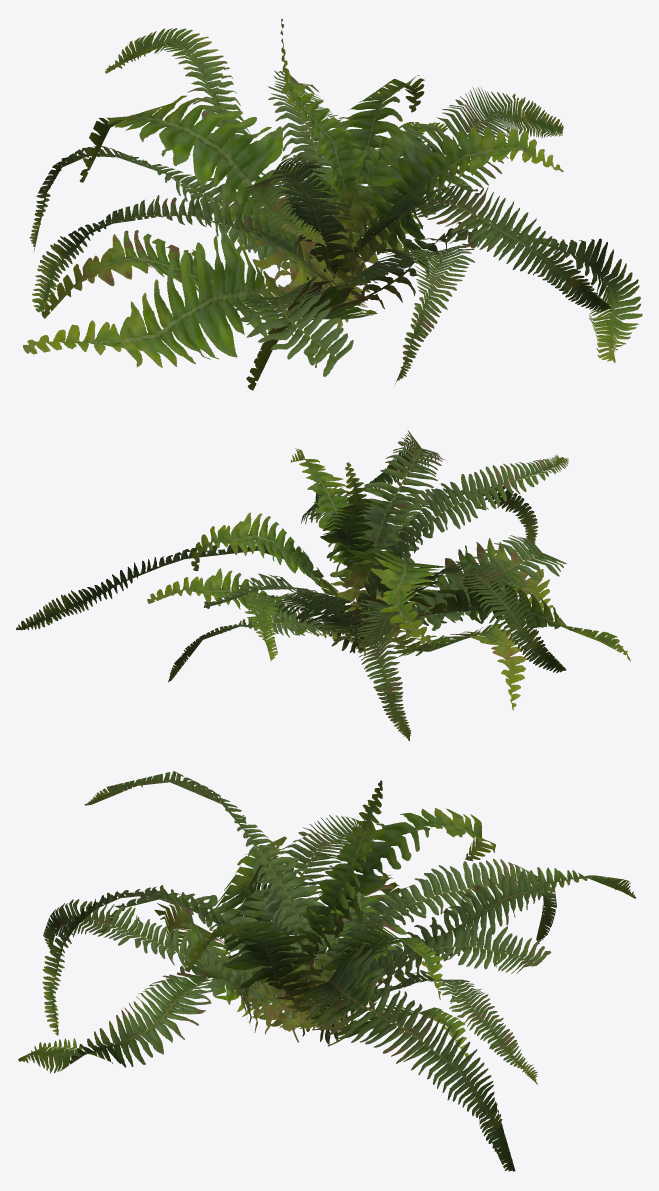
3 views of the same model, one above another, from view 1: azimuth 30°, elevation 25°; view 2: azimuth 150°, elevation 25°; view 3: azimuth 270°, elevation 25° (orthographic). The views are drawn at different scales.
Parts seen in each view (by area): view 1: fern_02__c_lod0; view 2: fern_02__c_lod0; view 3: fern_02__c_lod0.
Boxes of the visible parts, left/top/right/bottom form: fern_02__c_lod0: left=23, top=18, right=642, bottom=390; fern_02__c_lod0: left=16, top=430, right=630, bottom=740; fern_02__c_lod0: left=18, top=771, right=636, bottom=1171.
Size of the model in its own units: 0.9095 by 0.3692 by 0.7949.
1 material, 1 textured.
